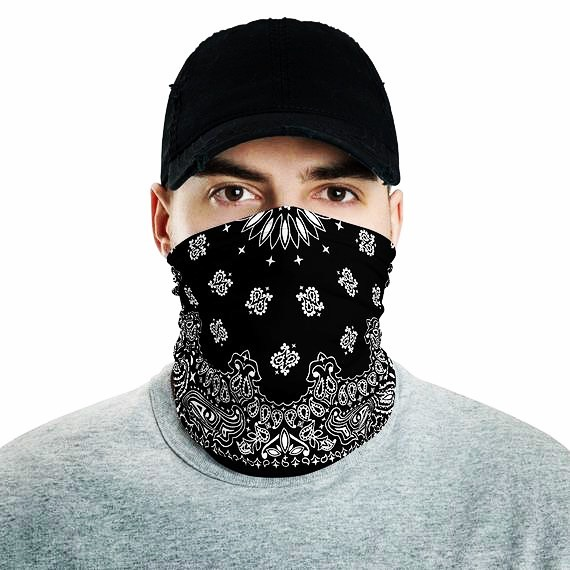homemade: (153, 213, 423, 461)
